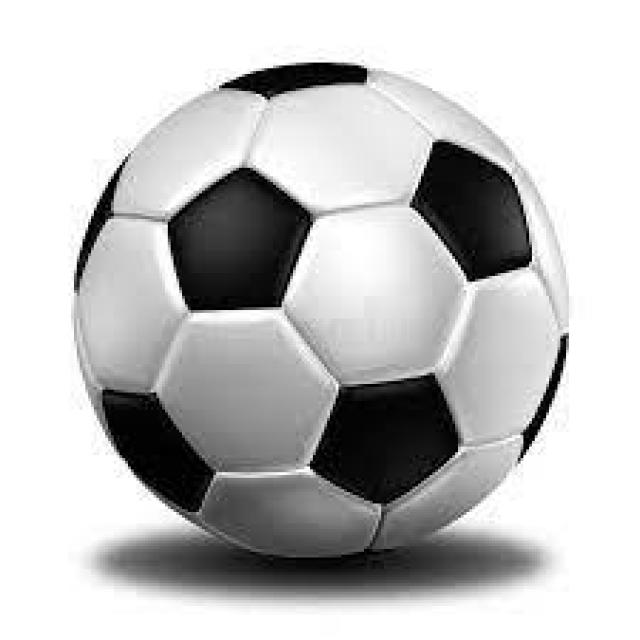Soccer Ball: (77, 54, 583, 563)
